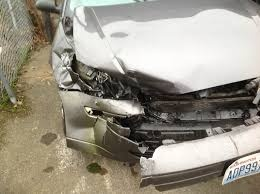Broken-glass: (68, 57, 139, 101)
Smashed: (55, 11, 260, 192)
